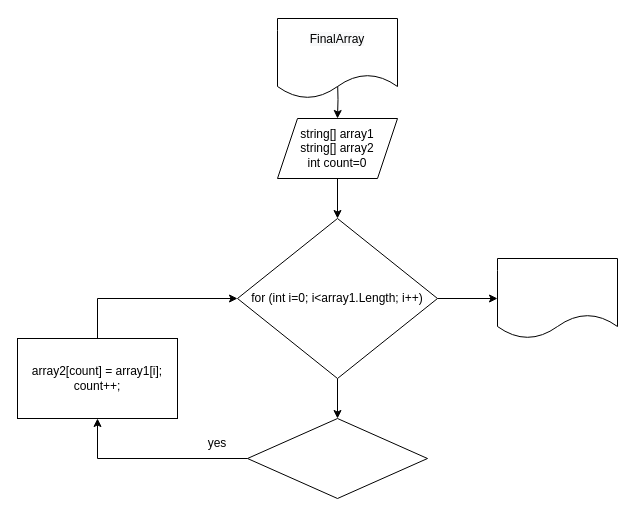
Some shapes in this 635 by 516 pixel diagram are drawn without their labels. Each missing label, with the box of its shape:
if (array1[i].Length <=3): (246, 418, 428, 498)
PrintArray(array2): (496, 258, 618, 338)
